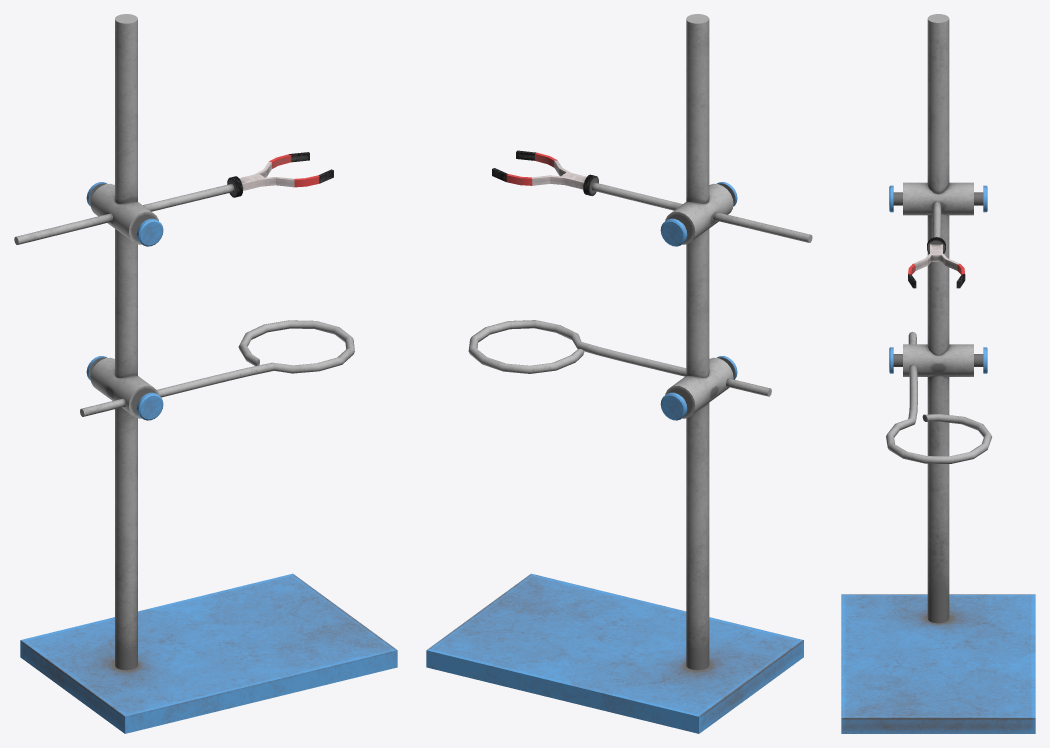
The model's file is SM_Vial_Support.fbx.
3 renders of one model, left to right at view 1: azimuth 30°, elevation 25°; view 2: azimuth 150°, elevation 25°; view 3: azimuth 270°, elevation 25°, orthographic. The views are drawn at different scales.
Visible parts, largest first — view 1: SM_Vial_Support_LOD0; view 2: SM_Vial_Support_LOD0; view 3: SM_Vial_Support_LOD0.
Boxes of the visible parts, x1=… form: SM_Vial_Support_LOD0: x1=14, y1=14, x2=397, y2=733; SM_Vial_Support_LOD0: x1=426, y1=14, x2=812, y2=733; SM_Vial_Support_LOD0: x1=841, y1=14, x2=1035, y2=733.
Bounding box in the file's own units: 32.65 × 17.83 × 62.33.
1 material, 1 textured.
